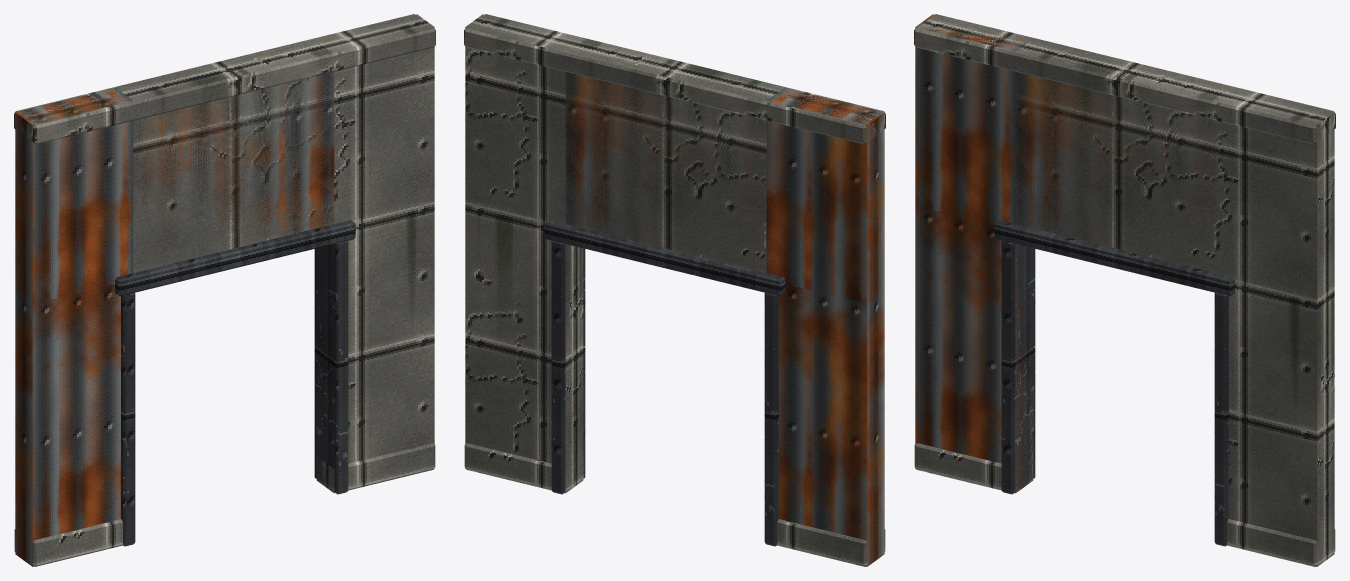
The model's file is wall_metal_window.glb.
The picture shows the model from 3 angles, left to right: view 1: azimuth 30°, elevation 25°; view 2: azimuth 150°, elevation 25°; view 3: azimuth 330°, elevation 25°; orthographic projection.
Visible parts, largest first — view 1: wall_metal_window_mesh, wall_metal_window_col-colonly.001, wall_metal_window_col-colonly.002; view 2: wall_metal_window_mesh, wall_metal_window_col-colonly.001, wall_metal_window_col-colonly.002; view 3: wall_metal_window_mesh, wall_metal_window_col-colonly.001, wall_metal_window_col-colonly.002.
Boxes of the visible parts, x1,y1,x2,y2 form: wall_metal_window_mesh: [14, 14, 435, 566]; wall_metal_window_col-colonly.001: [316, 14, 434, 493]; wall_metal_window_col-colonly.002: [116, 39, 334, 272]; wall_metal_window_mesh: [464, 14, 885, 566]; wall_metal_window_col-colonly.001: [465, 14, 583, 493]; wall_metal_window_col-colonly.002: [565, 39, 783, 272]; wall_metal_window_mesh: [914, 14, 1335, 566]; wall_metal_window_col-colonly.001: [1216, 88, 1334, 566]; wall_metal_window_col-colonly.002: [1015, 39, 1233, 272].
Size of what is drawn, in the model's own units: 4 by 4.2 by 0.44.
3 materials, 3 textured.
